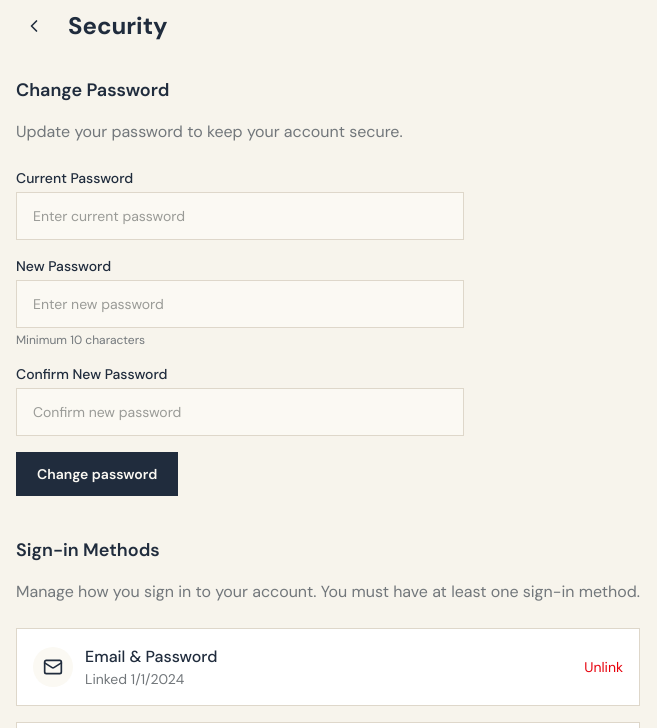
SecurityPage › confirms before unlinking
The image size is (657, 728).
# Click unlink on first identity
Click the button "Unlink".
click(604, 667)  # box [584,657,623,677]
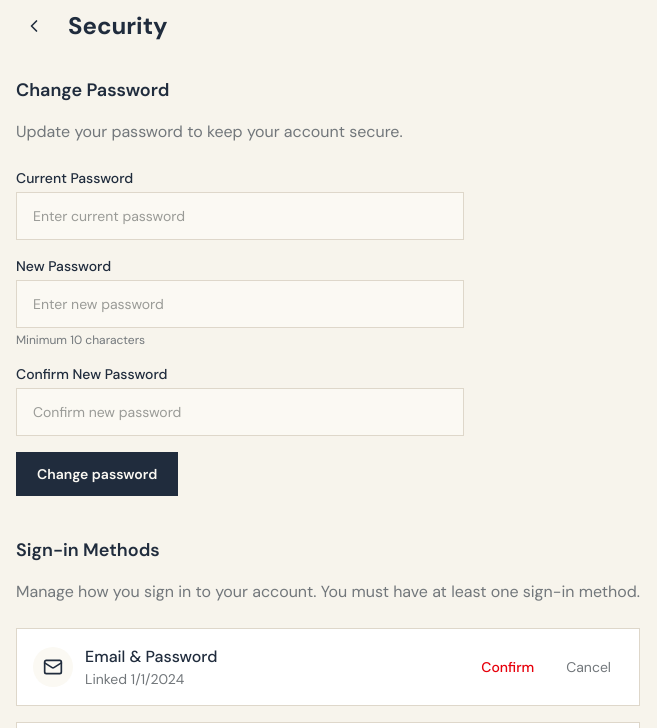
Now the button "Confirm" is shown, box [469,651,546,683]
Now the button "Cancel" is shown, box [554,651,623,683]
